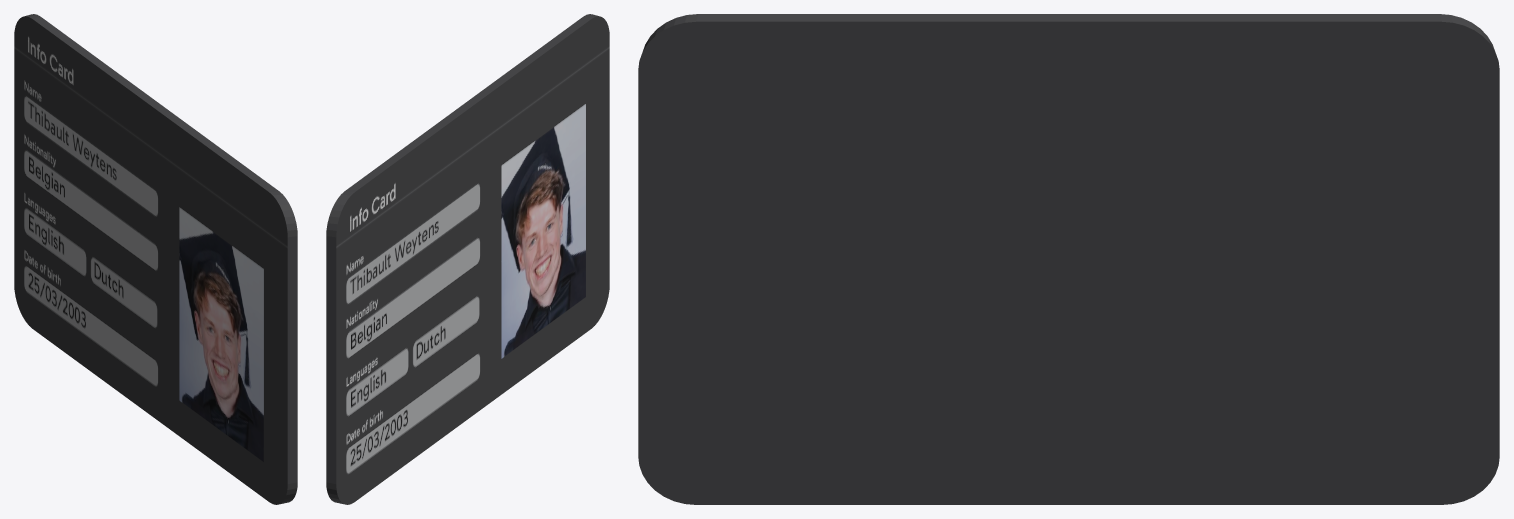
3 views of the same model, side by side, from view 1: azimuth 30°, elevation 25°; view 2: azimuth 150°, elevation 25°; view 3: azimuth 270°, elevation 25° (orthographic). The views are drawn at different scales.
Parts seen in each view (by area): view 1: Cube; view 2: Cube; view 3: Cube.
Boxes of the visible parts, <box> form: Cube: <box>14,14,297,504</box>; Cube: <box>326,14,609,504</box>; Cube: <box>638,14,1499,504</box>.
Bounding box in the file's own units: 0.083 × 2.67 × 4.31.
Materials: 1 (1 with a texture image).
